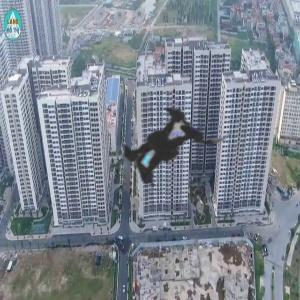drone: (62, 51, 257, 246)
